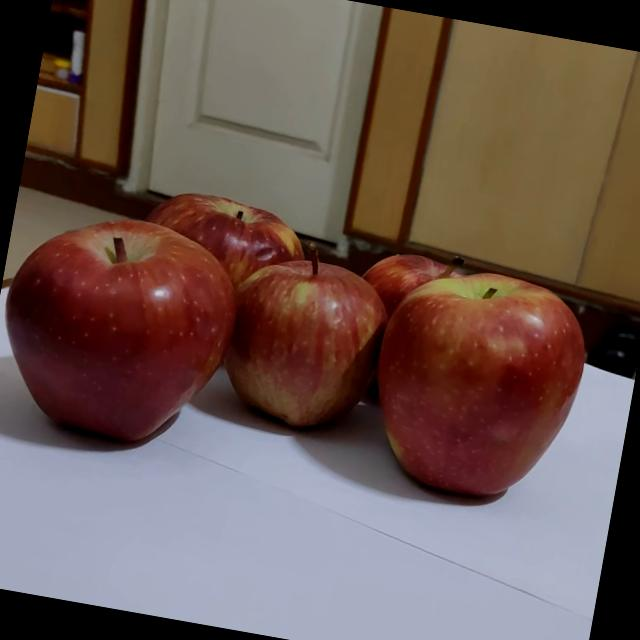apple: (0, 196, 252, 480), (89, 165, 314, 383), (372, 258, 589, 482), (214, 243, 407, 436), (325, 227, 488, 386)
